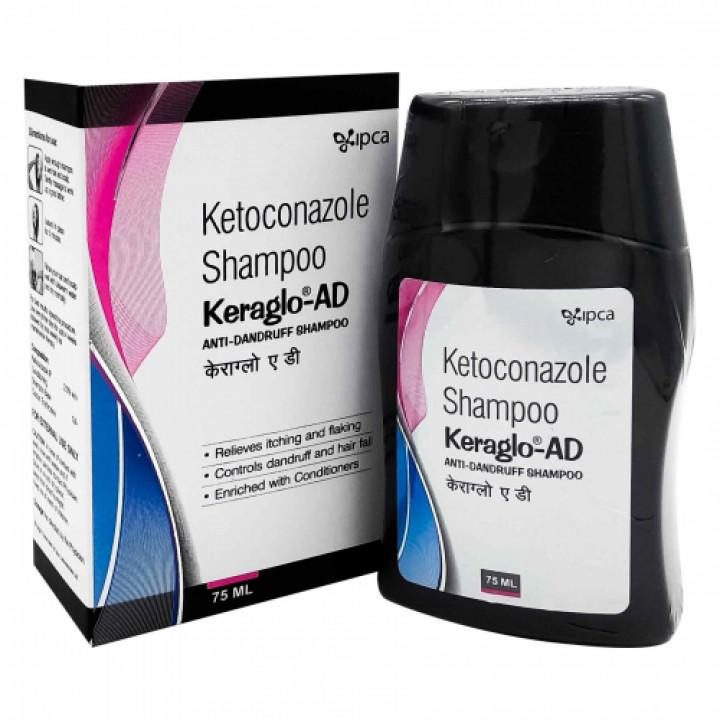KeraGlo: (378, 89, 690, 651)
